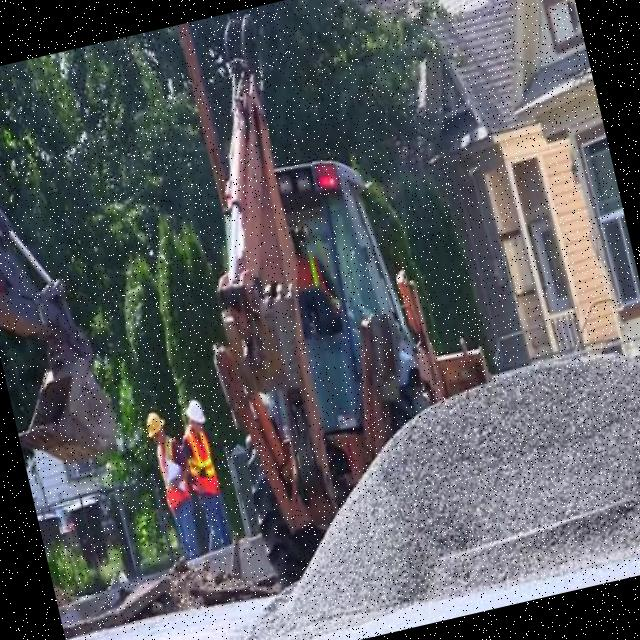Excavator: (0, 103, 125, 475)
